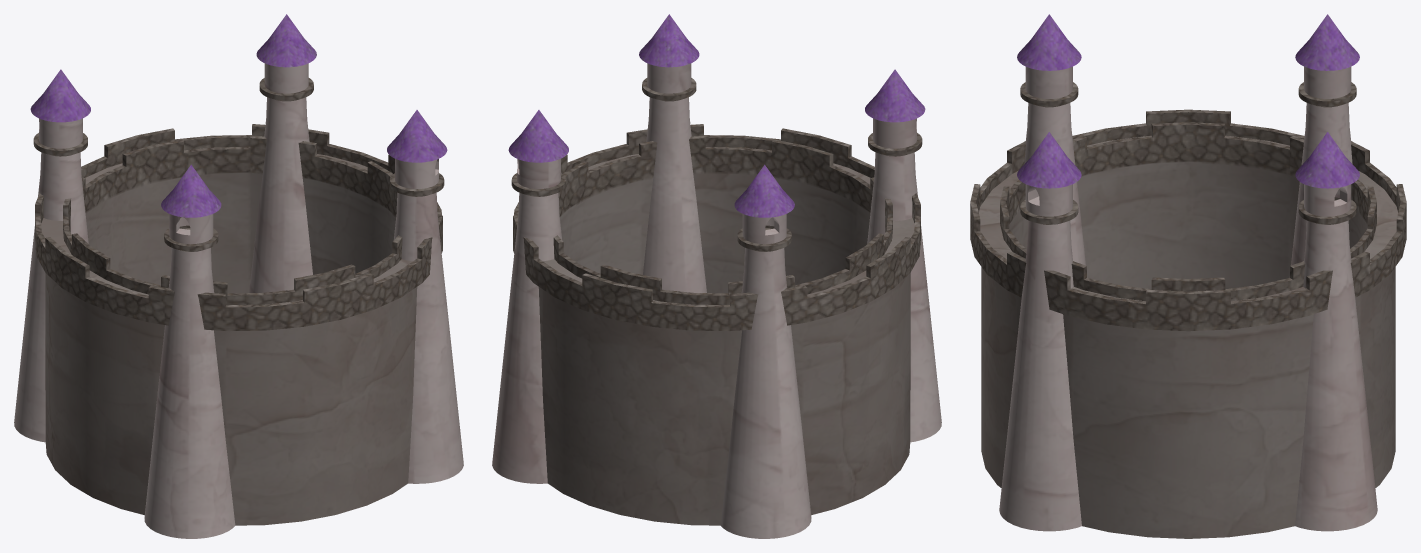
Rendered from TowerWalls.fbx.
3 views of the same model, side by side, from view 1: azimuth 30°, elevation 25°; view 2: azimuth 150°, elevation 25°; view 3: azimuth 270°, elevation 25° (orthographic). The views are drawn at different scales.
Parts seen in each view (by area): view 1: Walls; view 2: Walls; view 3: Walls.
Boxes of the visible parts, box(x1,y1,x2,y2) form: Walls: box(14, 14, 463, 538); Walls: box(492, 14, 941, 538); Walls: box(970, 14, 1406, 538).
Bounding box in the file's own units: 627 × 600 × 627.
